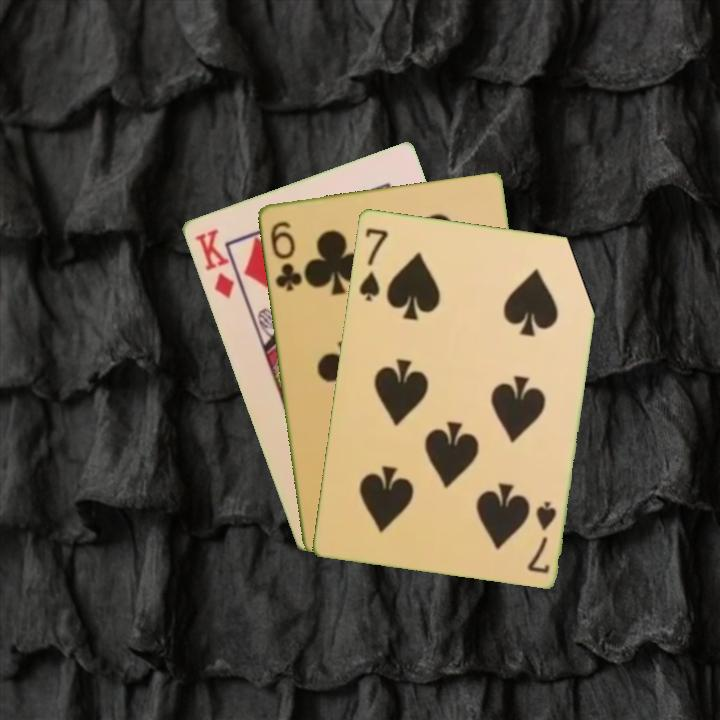6c: (266, 218, 304, 293)
7s: (523, 497, 559, 576), (355, 224, 390, 304)
Kd: (191, 225, 237, 302)
